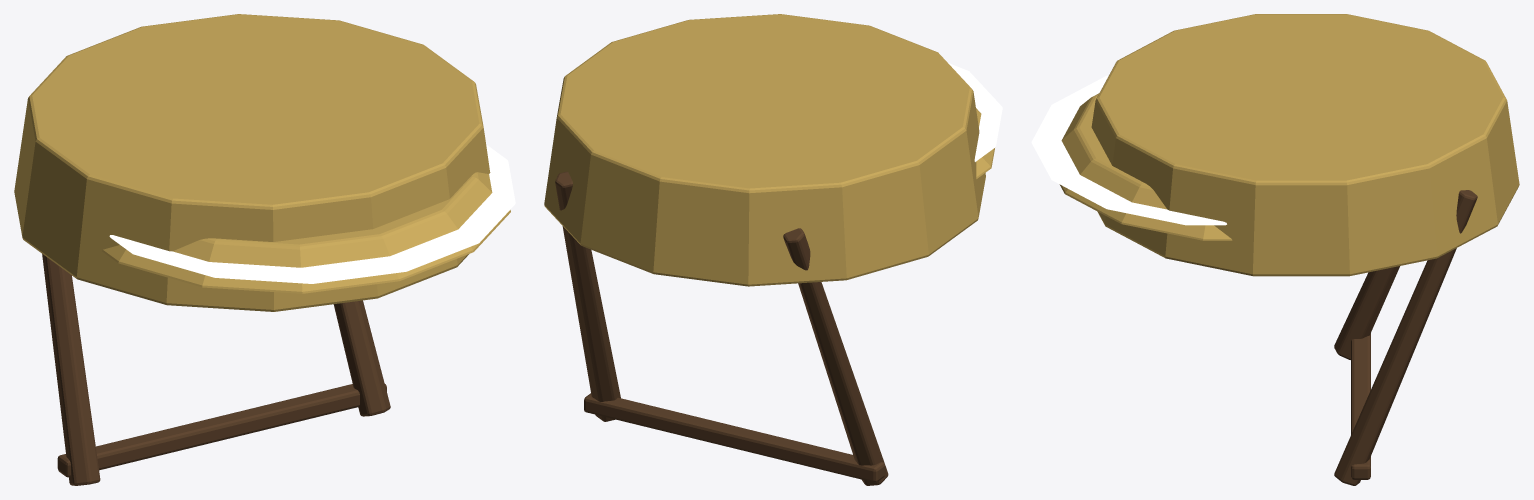
The model's file is target_butt.glb.
3 views of the same model, side by side, from view 1: azimuth 30°, elevation 25°; view 2: azimuth 150°, elevation 25°; view 3: azimuth 270°, elevation 25° (orthographic). The views are drawn at different scales.
Visible parts, largest first — view 1: Cone, Cone.001, Cone.002, Cube, Cone.007, Cone.008; view 2: Cone, Cube, Cone.007, Cone.008, Cone.002; view 3: Cone, Cone.008, Cone.001, Cone.002, Cone.007, Cube.
Boxes of the visible parts, x1,y1,x2,y2 form: Cone: (14,14,490,311); Cone.001: (102,172,510,293); Cone.002: (109,144,515,283); Cube: (57,384,386,477); Cone.007: (42,254,100,485); Cone.008: (333,300,390,416); Cone: (544,14,985,286); Cube: (584,393,885,482); Cone.007: (783,228,888,485); Cone.008: (555,171,620,421); Cone.002: (948,63,1002,161); Cone: (1091,14,1519,276); Cone.008: (1334,190,1477,485); Cone.001: (1059,93,1232,240); Cone.002: (1031,75,1226,225); Cone.007: (1334,266,1399,359); Cube: (1351,333,1370,479).
Bounding box in the file's own units: 1.28 × 1.08 × 1.47.
